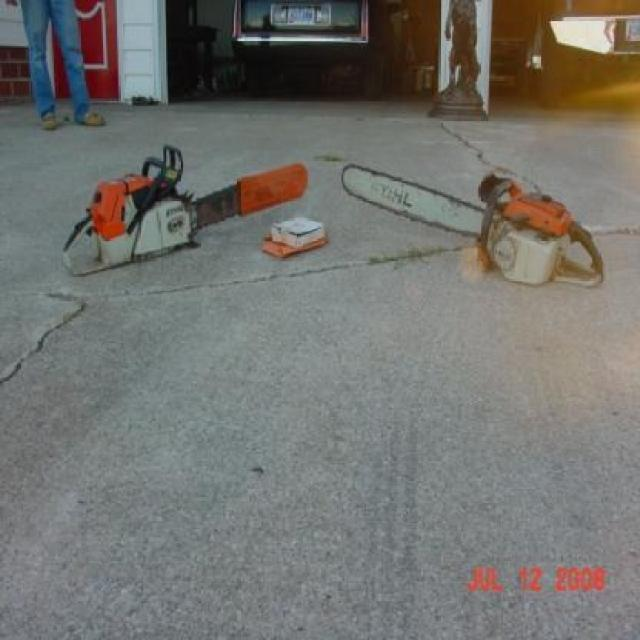Chainsaw: (340, 152, 609, 288), (62, 142, 309, 280)
